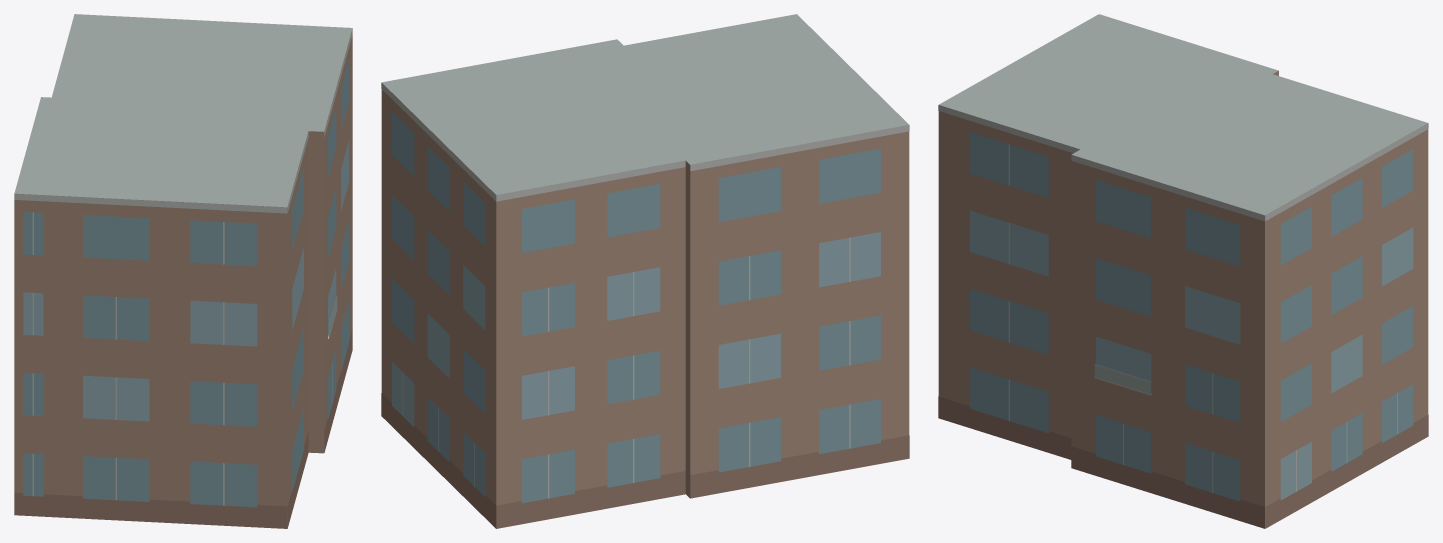
The model's file is survey-upis-32621439.glb.
3 views of the same model, side by side, from view 1: azimuth 30°, elevation 25°; view 2: azimuth 150°, elevation 25°; view 3: azimuth 270°, elevation 25° (orthographic). The views are drawn at different scales.
Visible parts, largest first — view 1: survey-upis-32621439.tmp; view 2: survey-upis-32621439.tmp; view 3: survey-upis-32621439.tmp.
Part boxes in pixels (x1=…): survey-upis-32621439.tmp: x1=14, y1=14, x2=352, y2=528; survey-upis-32621439.tmp: x1=381, y1=14, x2=909, y2=528; survey-upis-32621439.tmp: x1=938, y1=14, x2=1428, y2=528.
Size of the model in its own units: 17.38 by 12.6 by 17.86.
